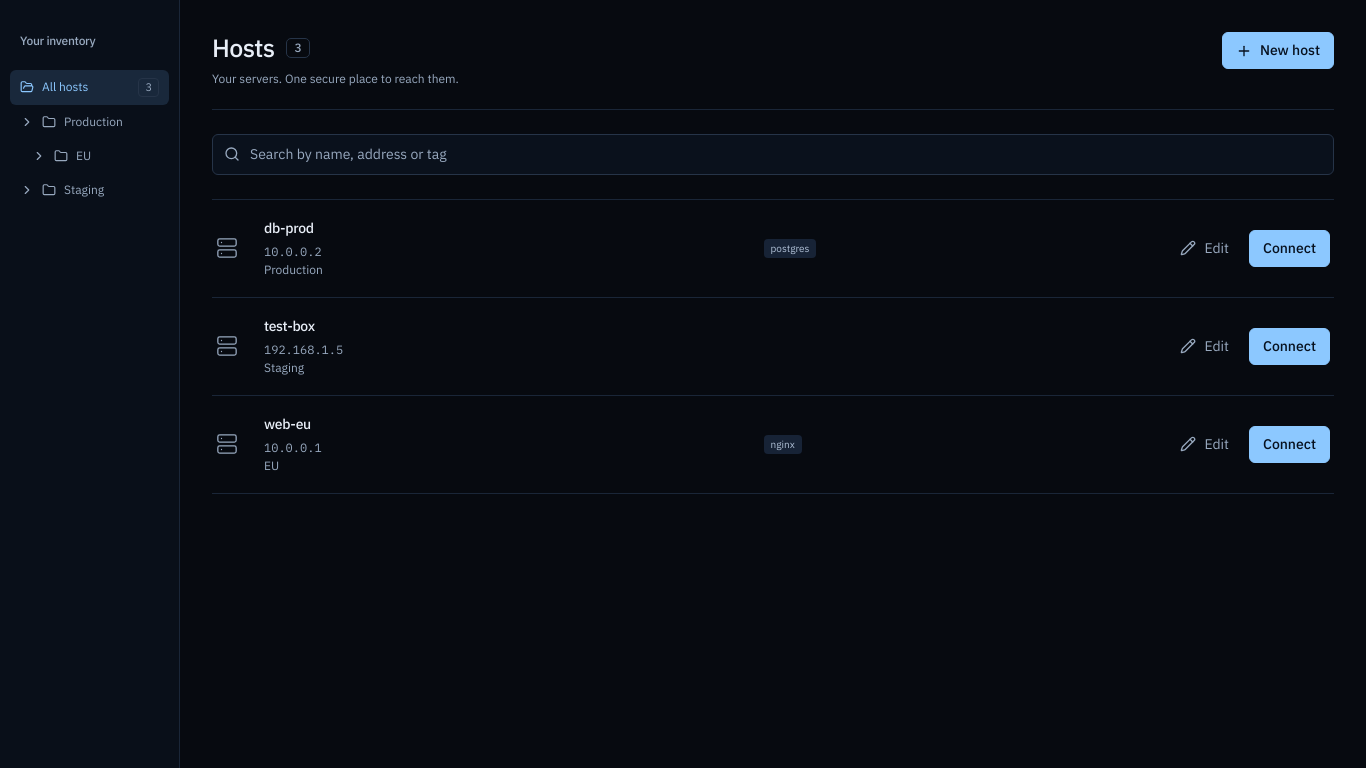
Test case: host form validates the port
Click the button "New host": (1278,50) [1222,32,1334,69]
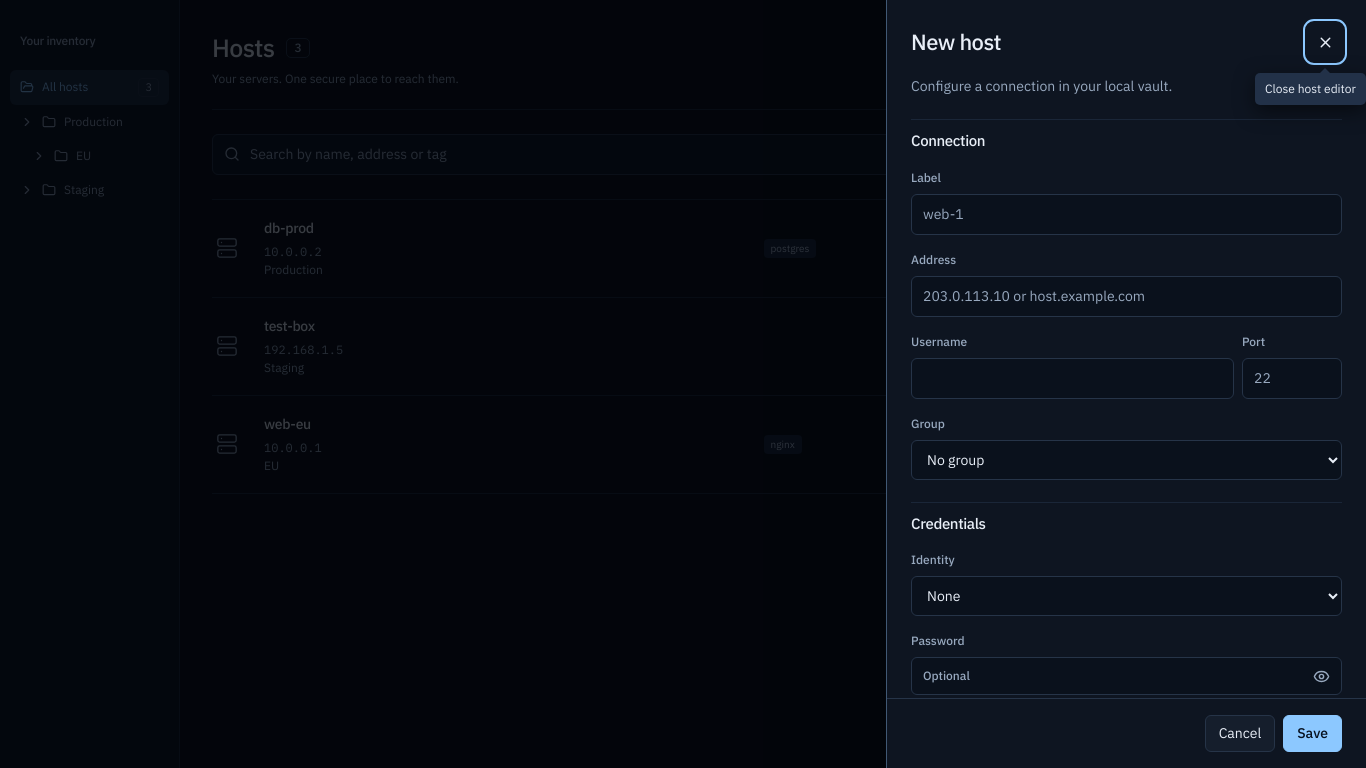
In the field labelled "Address": (1126,296) [911,276,1342,316], type "example.com"
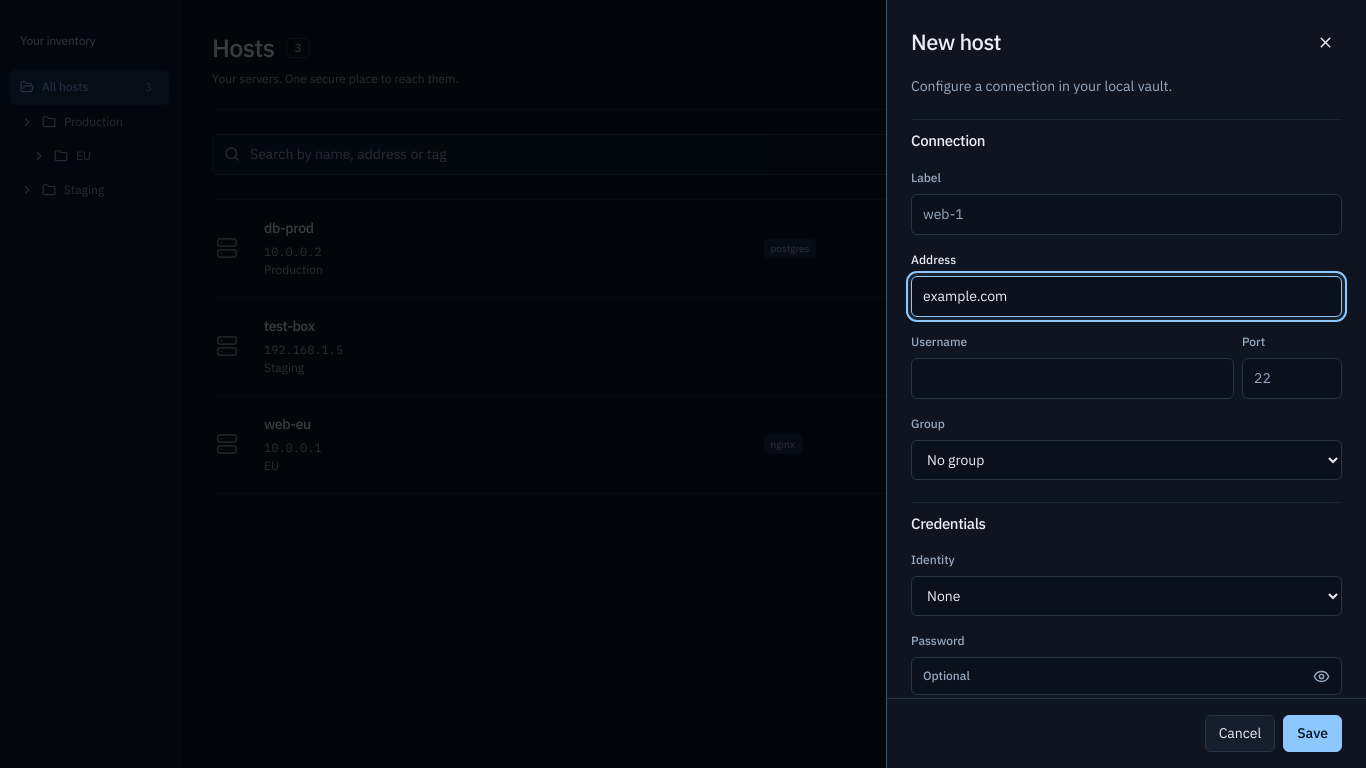
In the field labelled "Port": (1292,378) [1242,358,1342,398], type "70000"
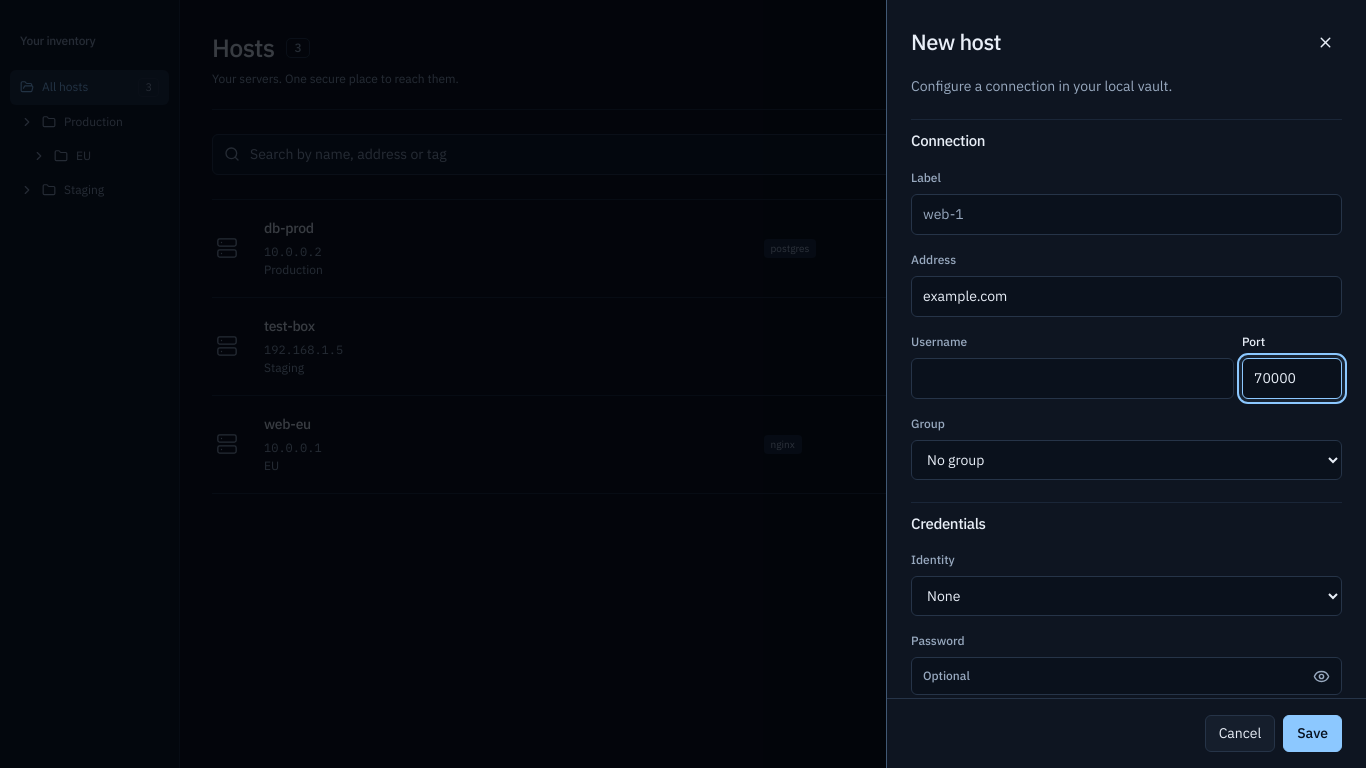
Click the button "Save": (1313,734) [1283,715,1342,752]
(page scrolled)
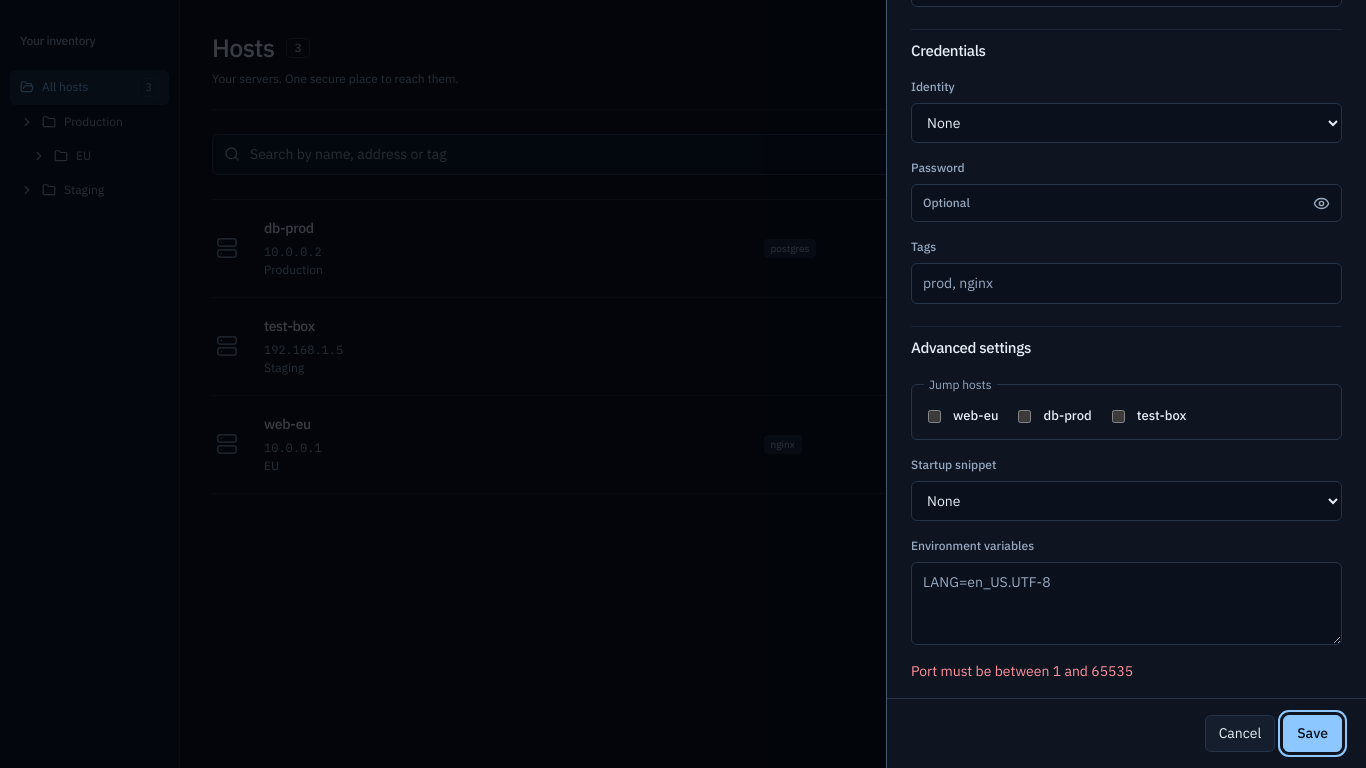
Expected: the message reads "Port must be between 1 and 65535", [911,662,1133,680]
